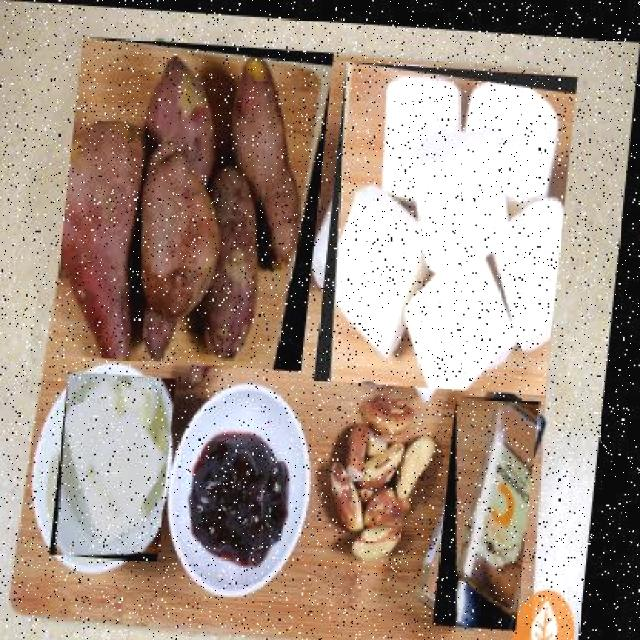Butter: (62, 370, 186, 561)
Sweet Potato: (62, 57, 298, 359)
